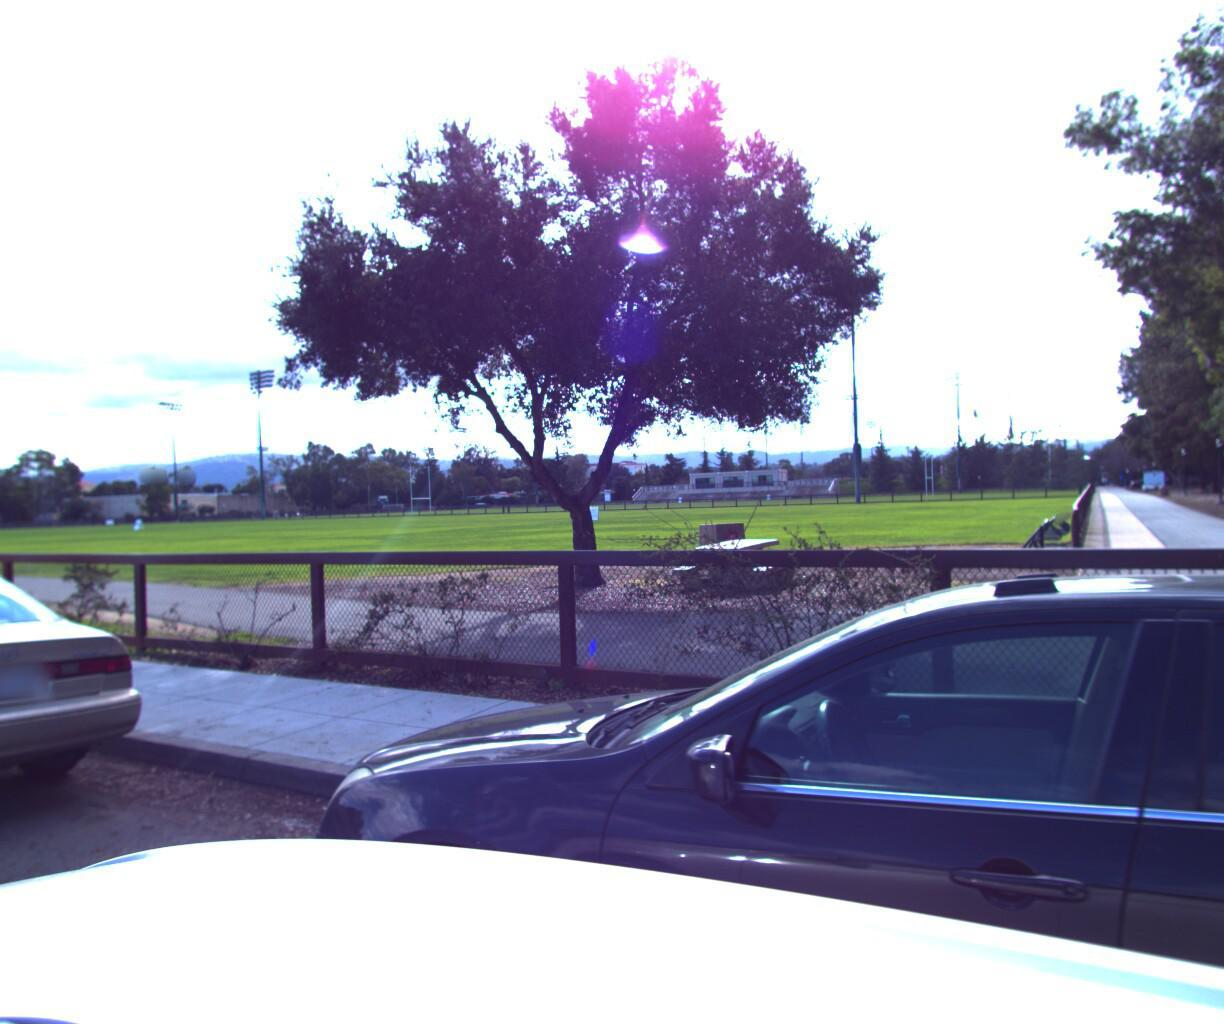car: (123, 528, 1224, 1024), (0, 550, 165, 906)
